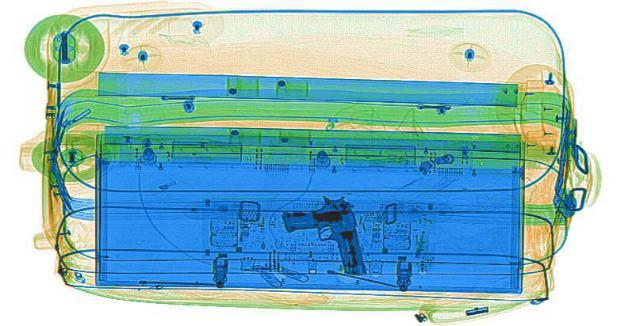Gun: (274, 193, 368, 276)
